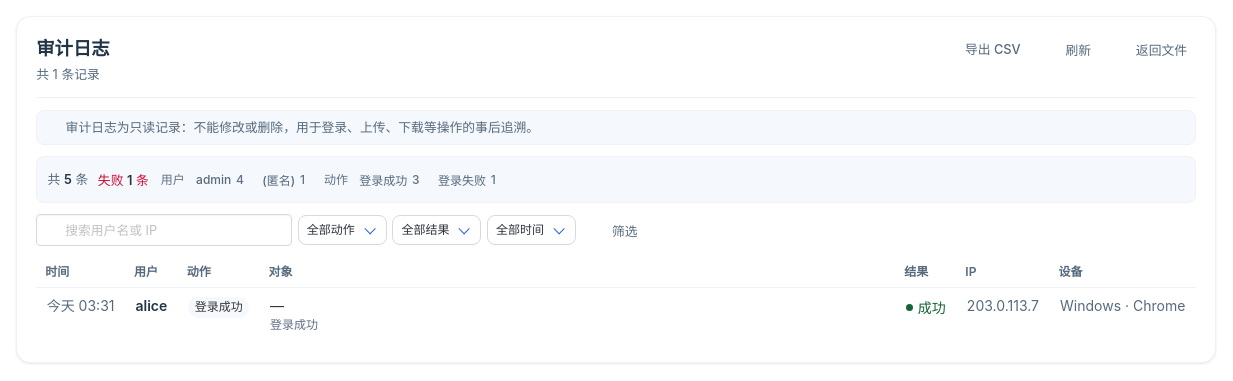
Scenario: AuditLogs.vue › filters by time range presets and includes them in the export link
Select "近 7 天" in the dropdown named "按时间范围筛选": point(532, 230) [487, 215, 576, 245]
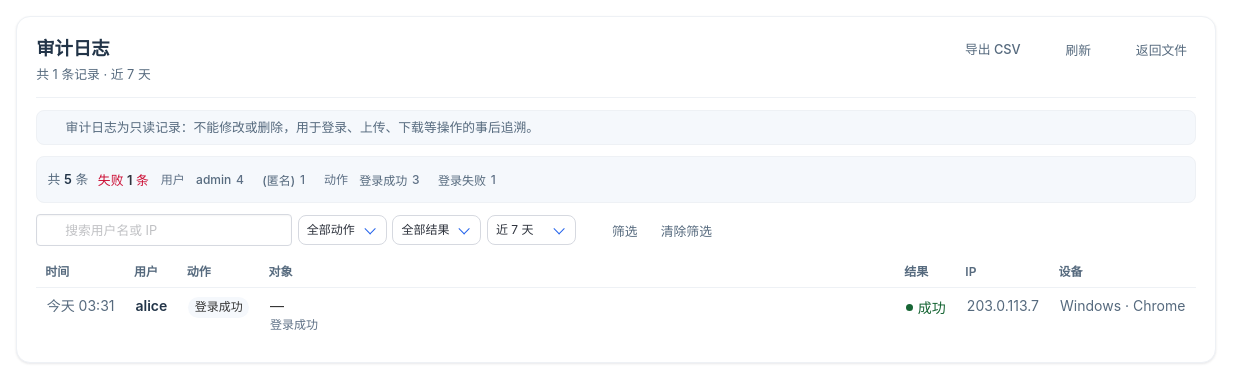
Expected: the text with class "audit-subtitle" shows "近 7 天", [103, 67, 151, 82]
